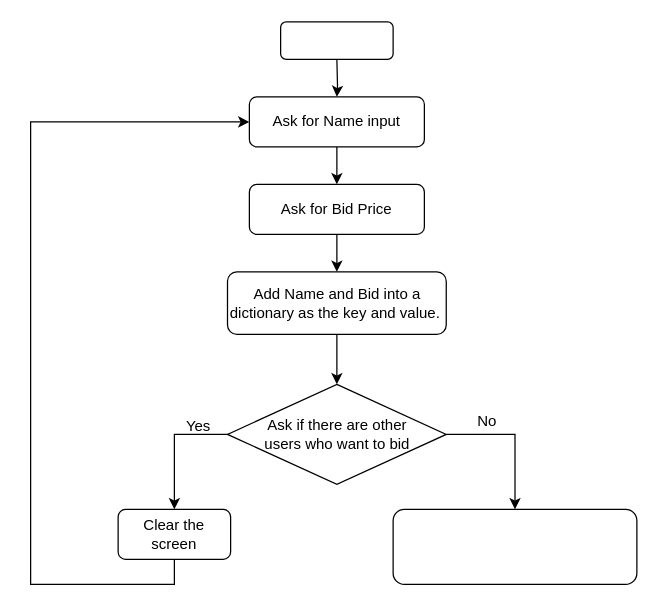
Some shapes in this 659 by 616 pixel diagram are drawn without their labels. The shapes that lost their labels are listed below. From the top down, each one's centre as x and y in pixels, then its label:
At [336,40]: "START".
At [514,546]: "Find the highest bid in the dictionary and declare them as the winner".
